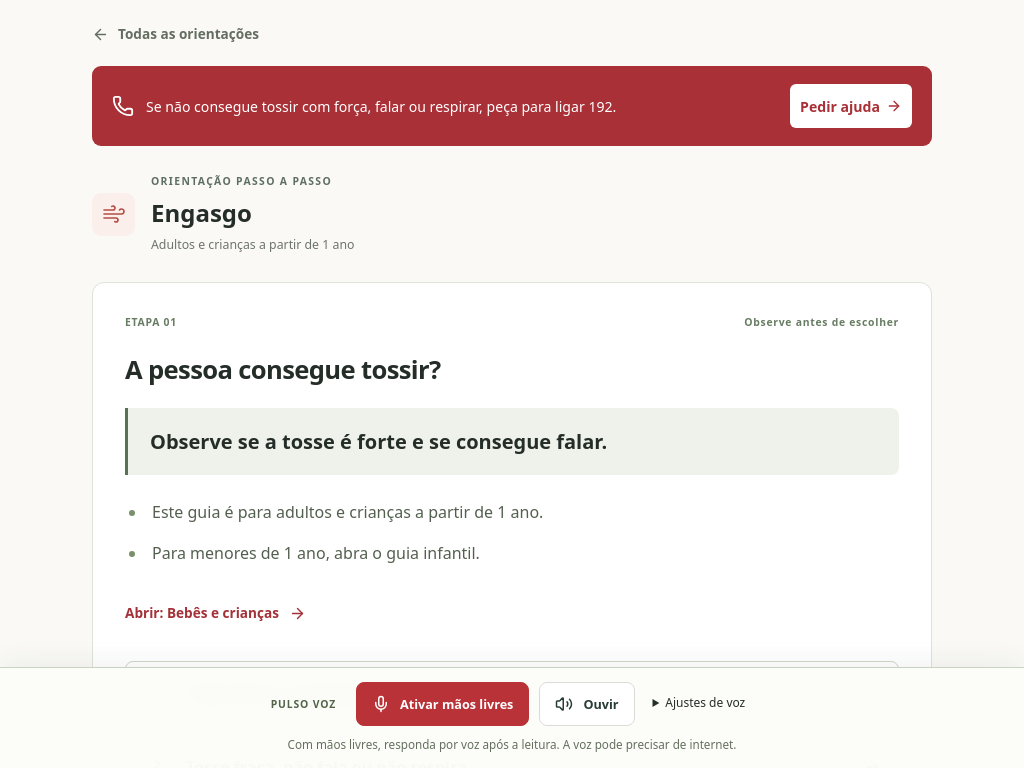
it: hands-free reads, listens, follows a choice and listens again without another click
The image size is (1024, 768).
Click the button "Ativar mãos livres" at coordinates (443, 704), box top-left (356, 682), bottom-right (529, 726)
Wait 1800 ms
(page scrolled)
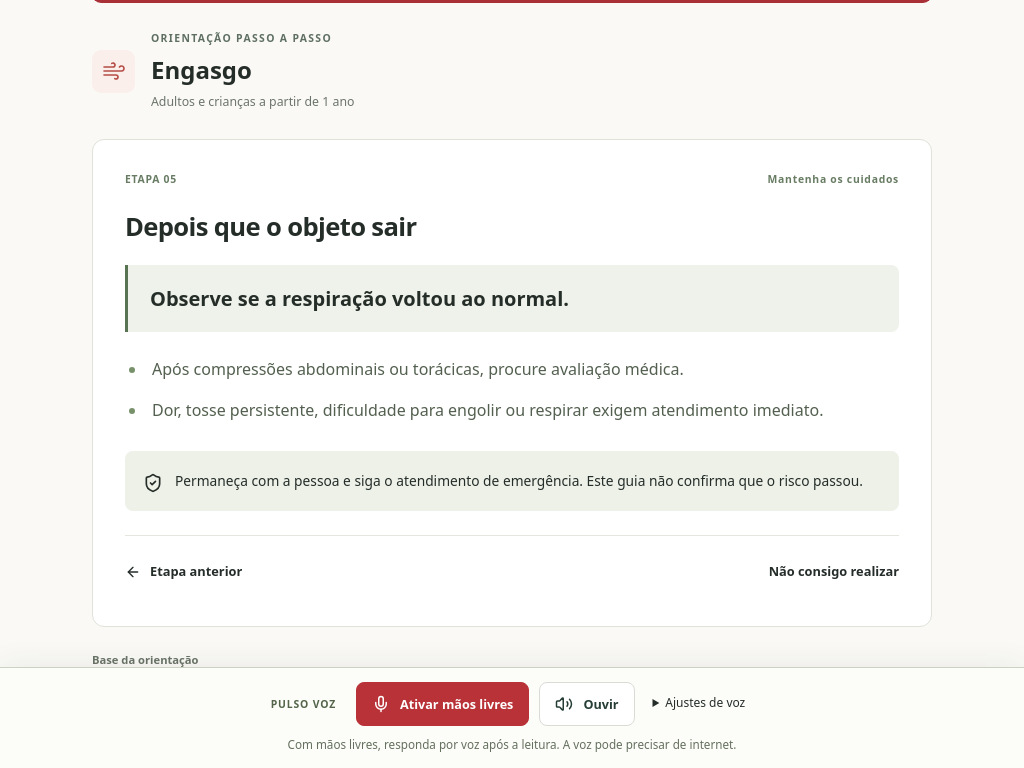
Result: the heading "Depois que o objeto sair" is shown at top-left (125, 209), bottom-right (416, 244)
